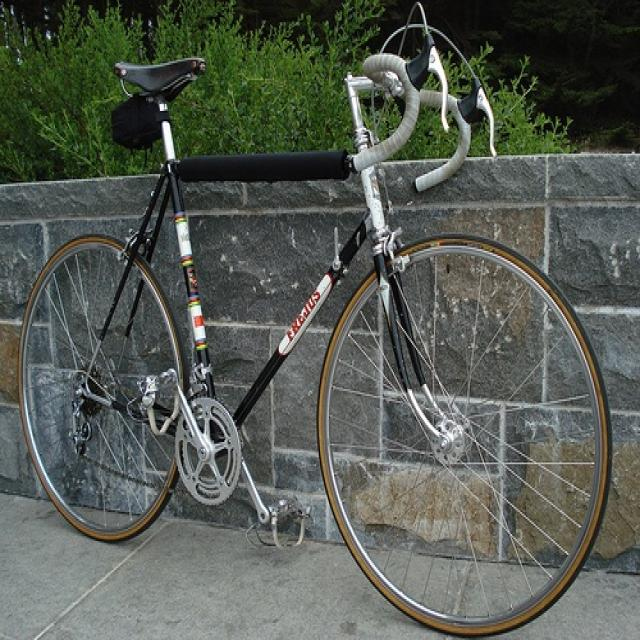bicycle: (12, 2, 622, 635)
